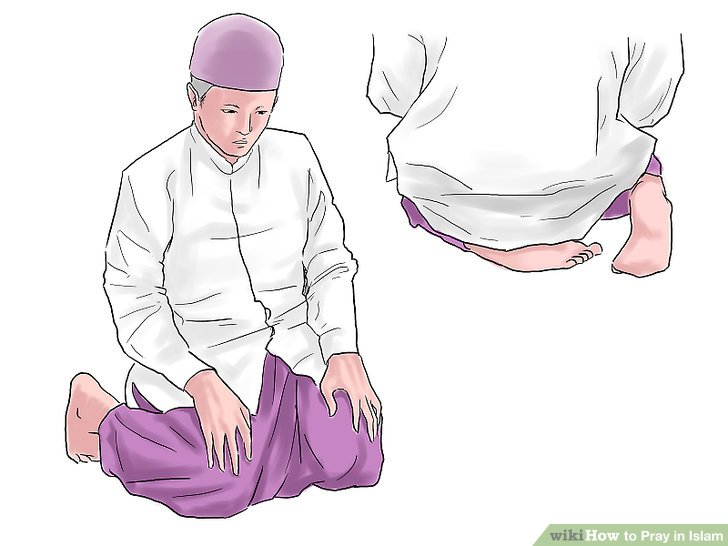sitting: (64, 13, 384, 519)
